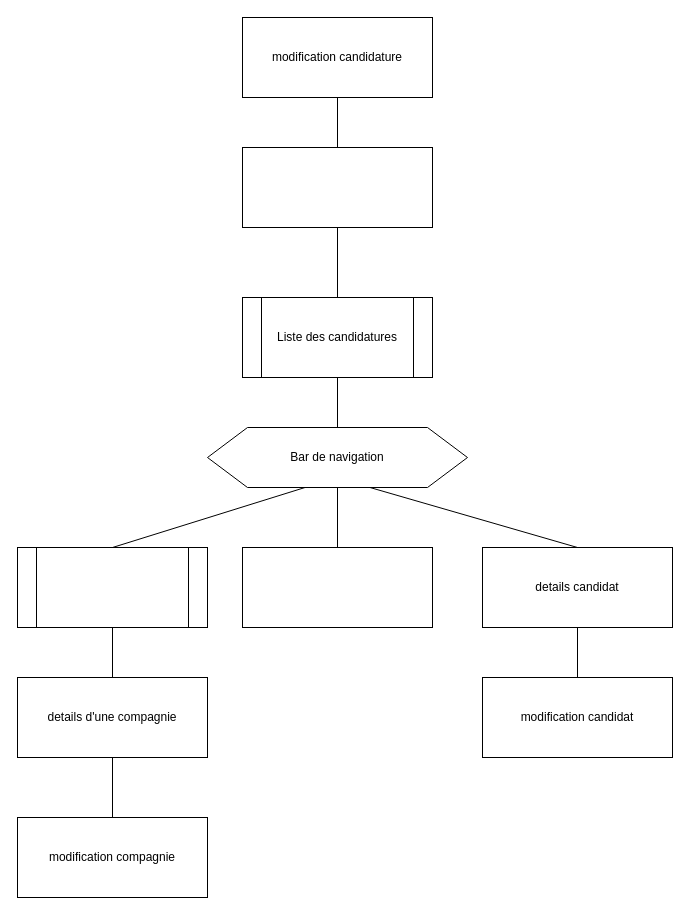
The diagram is 690 pixels wide and 915 high, and some of its shapes have lost their labels. The centre of each missing label's shape, as x and y in pixels:
"detail d'une candidature" goes at point 337,187.
"formulaire compagnie" goes at point 337,587.
"Liste des compagnie" goes at point 112,587.
